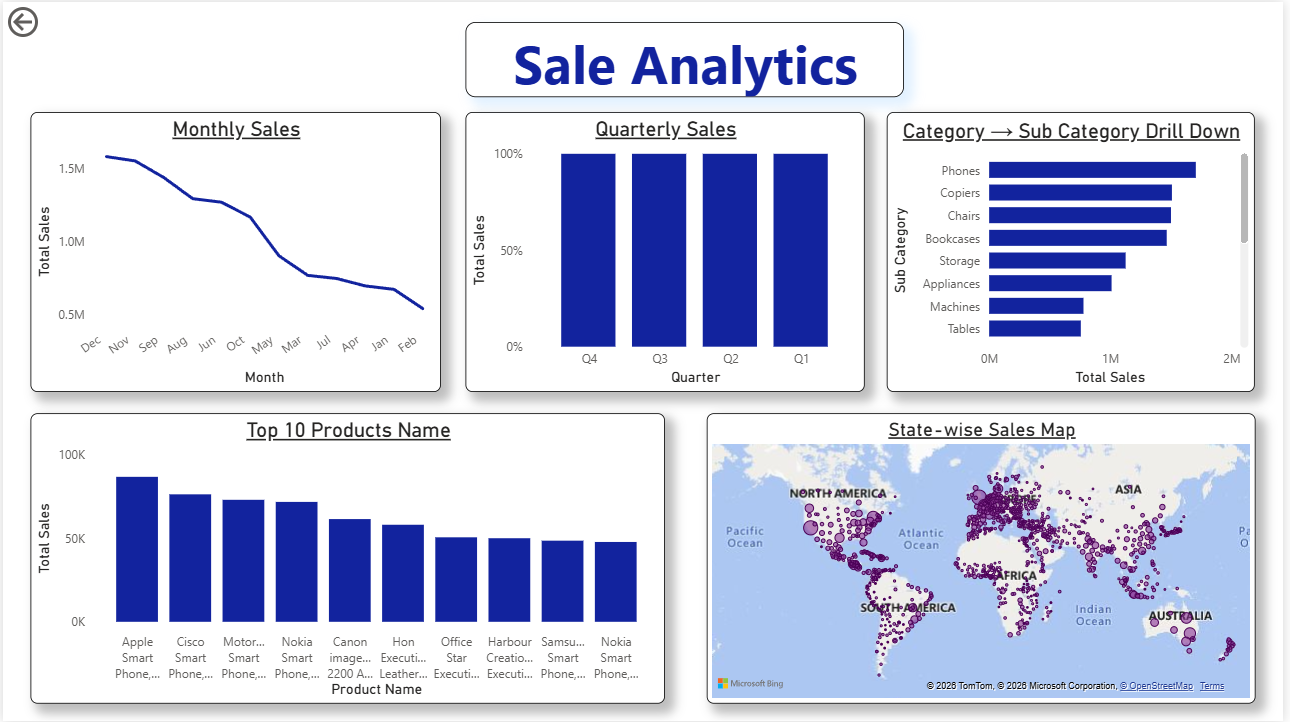

This screenshot's page, from the dashboard's own definition file:
{"tool":"powerbi","page":{"name":"SALES ANALYTICS","canvas":[1280,720],"ordinal":1},"visuals":[{"type":"lineChart","title":"Monthly Sales","fields":{"Category":["Calender.Month"],"Y":["superstore.Total Sales"]},"box":[27.7,109.8,410.2,279.9],"z":0},{"type":"hundredPercentStackedColumnChart","title":"Quarterly Sales ","fields":{"Category":["Calender.Quarter"],"Y":["superstore.Total Sales"]},"box":[462.1,109.8,399.3,279.9],"z":1000},{"type":"actionButton","box":[0,0,100,40],"z":2000},{"type":"barChart","title":"Category → Sub Category Drill Down ","fields":{"Category":["superstore.Sub Category"],"Y":["superstore.Total Sales"]},"box":[884.3,109.8,368,279.9],"z":3000},{"type":"clusteredColumnChart","title":"Top 10 Products  Name","fields":{"Category":["superstore.Product Name"],"Y":["superstore.Total Sales"]},"box":[27.7,411.4,634.6,290.8],"z":4000},{"type":"map","title":"State-wise Sales Map ","fields":{"Category":["superstore.State"],"Size":["superstore.Total Sales"]},"box":[703.4,411.4,548.9,290.8],"z":5000},{"type":"textbox","title":"Sale Analytics","box":[462.5,20,438.8,75],"z":6000}]}

Visuals, with their boxes in screenshot pixels (x1, y1, x2, y2), scaled from the page's 1280x720 canvas onto the 1290x722 screenshot:
"Monthly Sales" lineChart: <bbox>28, 110, 441, 391</bbox>
"Quarterly Sales " hundredPercentStackedColumnChart: <bbox>466, 110, 868, 391</bbox>
actionButton: <bbox>0, 0, 101, 40</bbox>
"Category → Sub Category Drill Down " barChart: <bbox>891, 110, 1262, 391</bbox>
"Top 10 Products  Name" clusteredColumnChart: <bbox>28, 413, 667, 704</bbox>
"State-wise Sales Map " map: <bbox>709, 413, 1262, 704</bbox>
"Sale Analytics" textbox: <bbox>466, 20, 908, 95</bbox>
